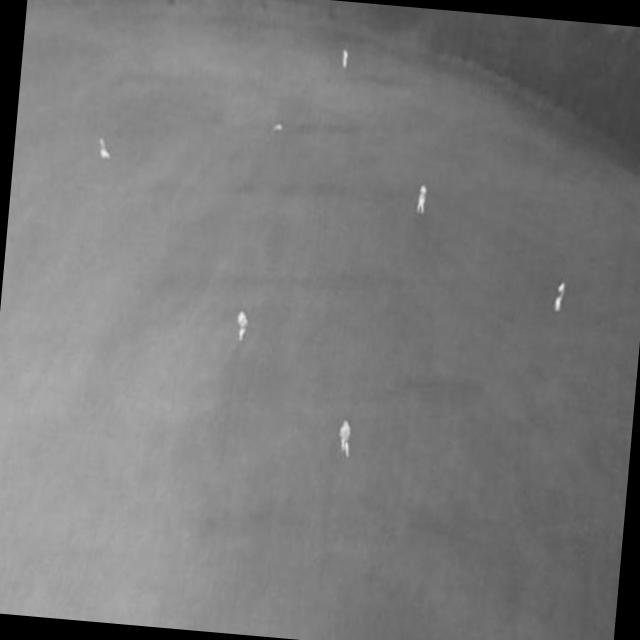person: (338, 420, 353, 459), (235, 308, 250, 345), (552, 282, 566, 314), (95, 137, 112, 163), (414, 191, 425, 215), (416, 182, 428, 203), (340, 49, 349, 70)
